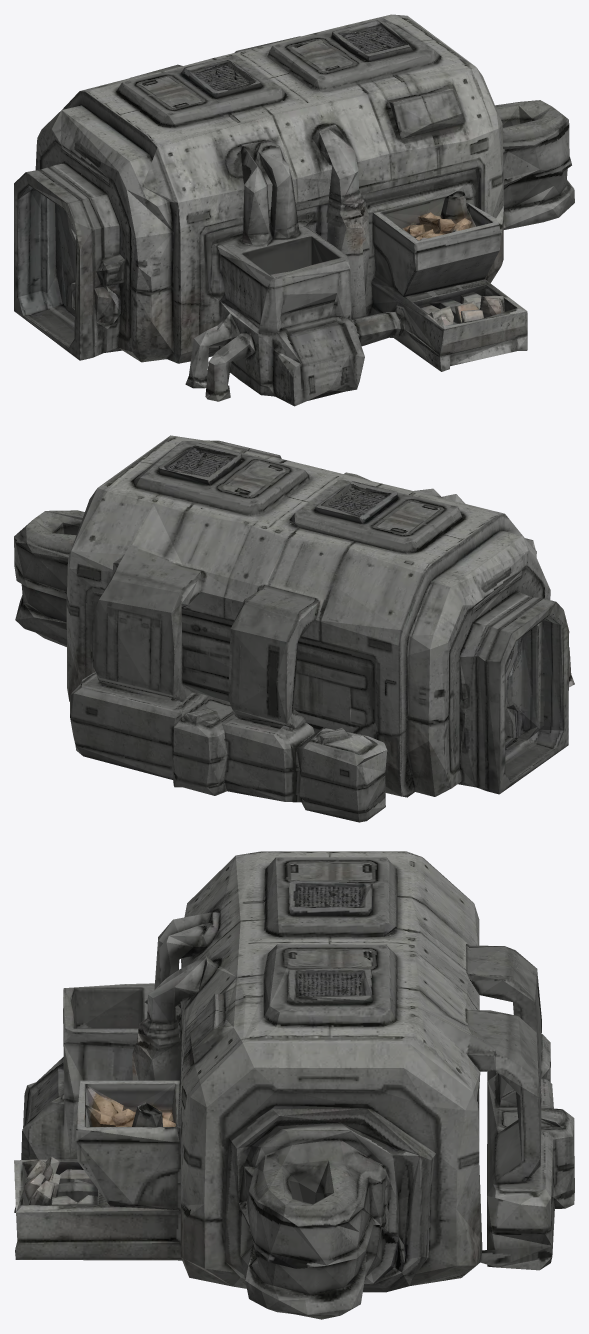
File: conv.food_processor.glb
3 renders of one model, top to bottom at view 1: azimuth 30°, elevation 25°; view 2: azimuth 150°, elevation 25°; view 3: azimuth 270°, elevation 25°, orthographic. The views are drawn at different scales.
Parts seen in each view (by area): view 1: body; view 2: body; view 3: body.
Boxes of the visible parts, x1,y1,x2,y2 form: body: (14,14,574,406); body: (14,435,574,822); body: (14,851,574,1319).
Bounding box in the file's own units: 2 × 0.8435 × 1.59.
Materials: 1 (1 with a texture image).
